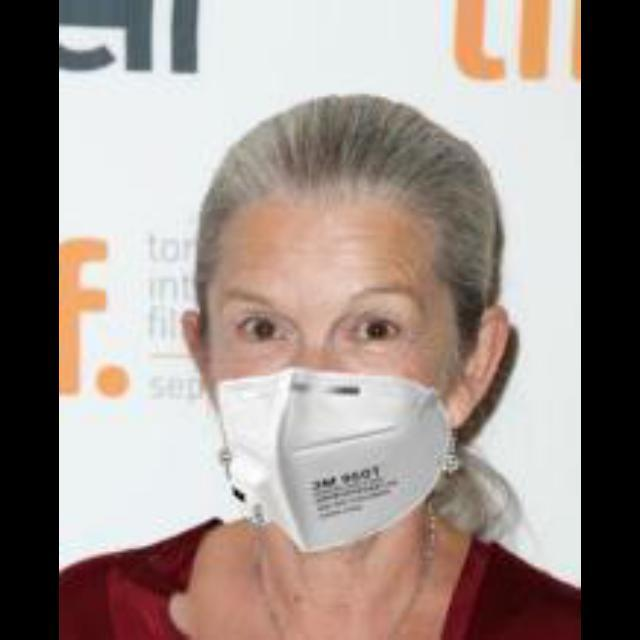suspicion: (190, 130, 498, 542)
